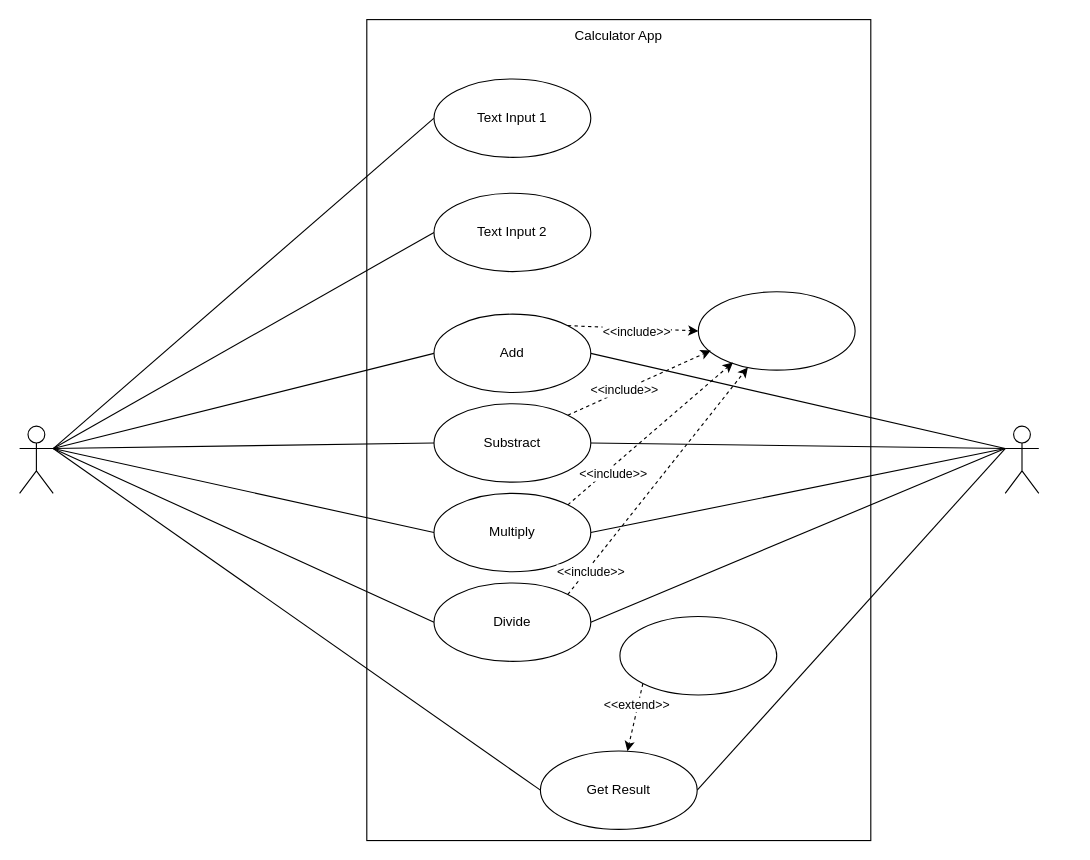
This 1090x860 diagram has some shape labels left out. Here are the shapes that lost their labels. From the top down, the box of each, then its label:
(697, 291, 855, 370): Check Empty Field
(18, 425, 53, 493): User
(1004, 425, 1039, 493): Calculator Class
(619, 615, 777, 695): Display Error
